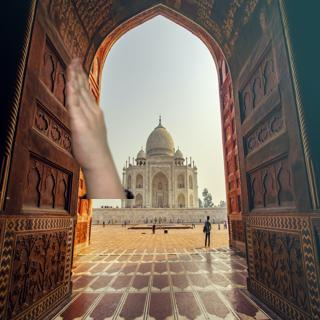RIGHT: (59, 54, 116, 175)
